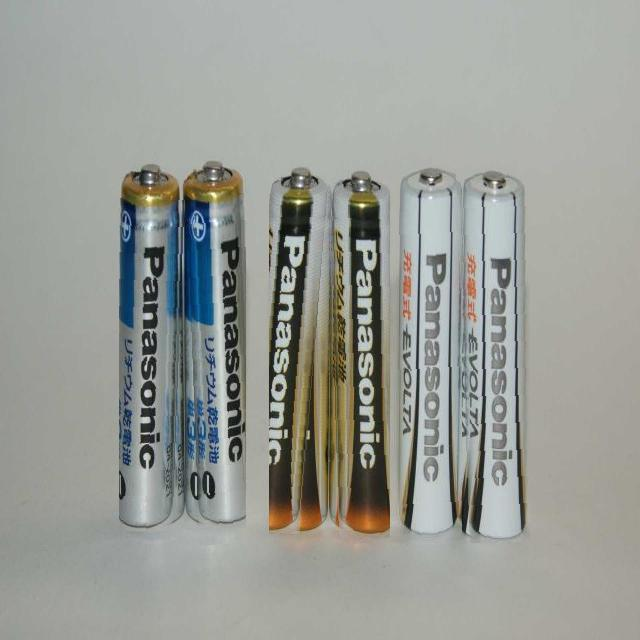battery: (456, 167, 530, 543), (393, 168, 462, 542), (119, 158, 186, 532), (185, 156, 246, 546), (328, 166, 390, 538), (269, 162, 330, 535)
